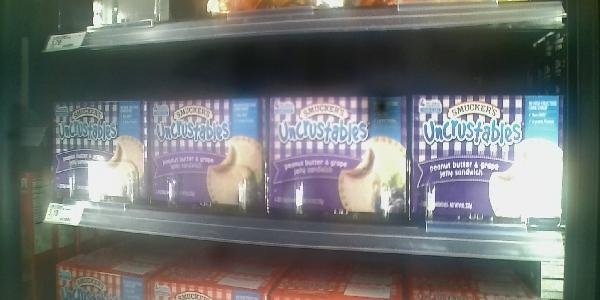icecream: (416, 92, 564, 233), (270, 92, 415, 227), (149, 95, 264, 220), (39, 95, 146, 206)
